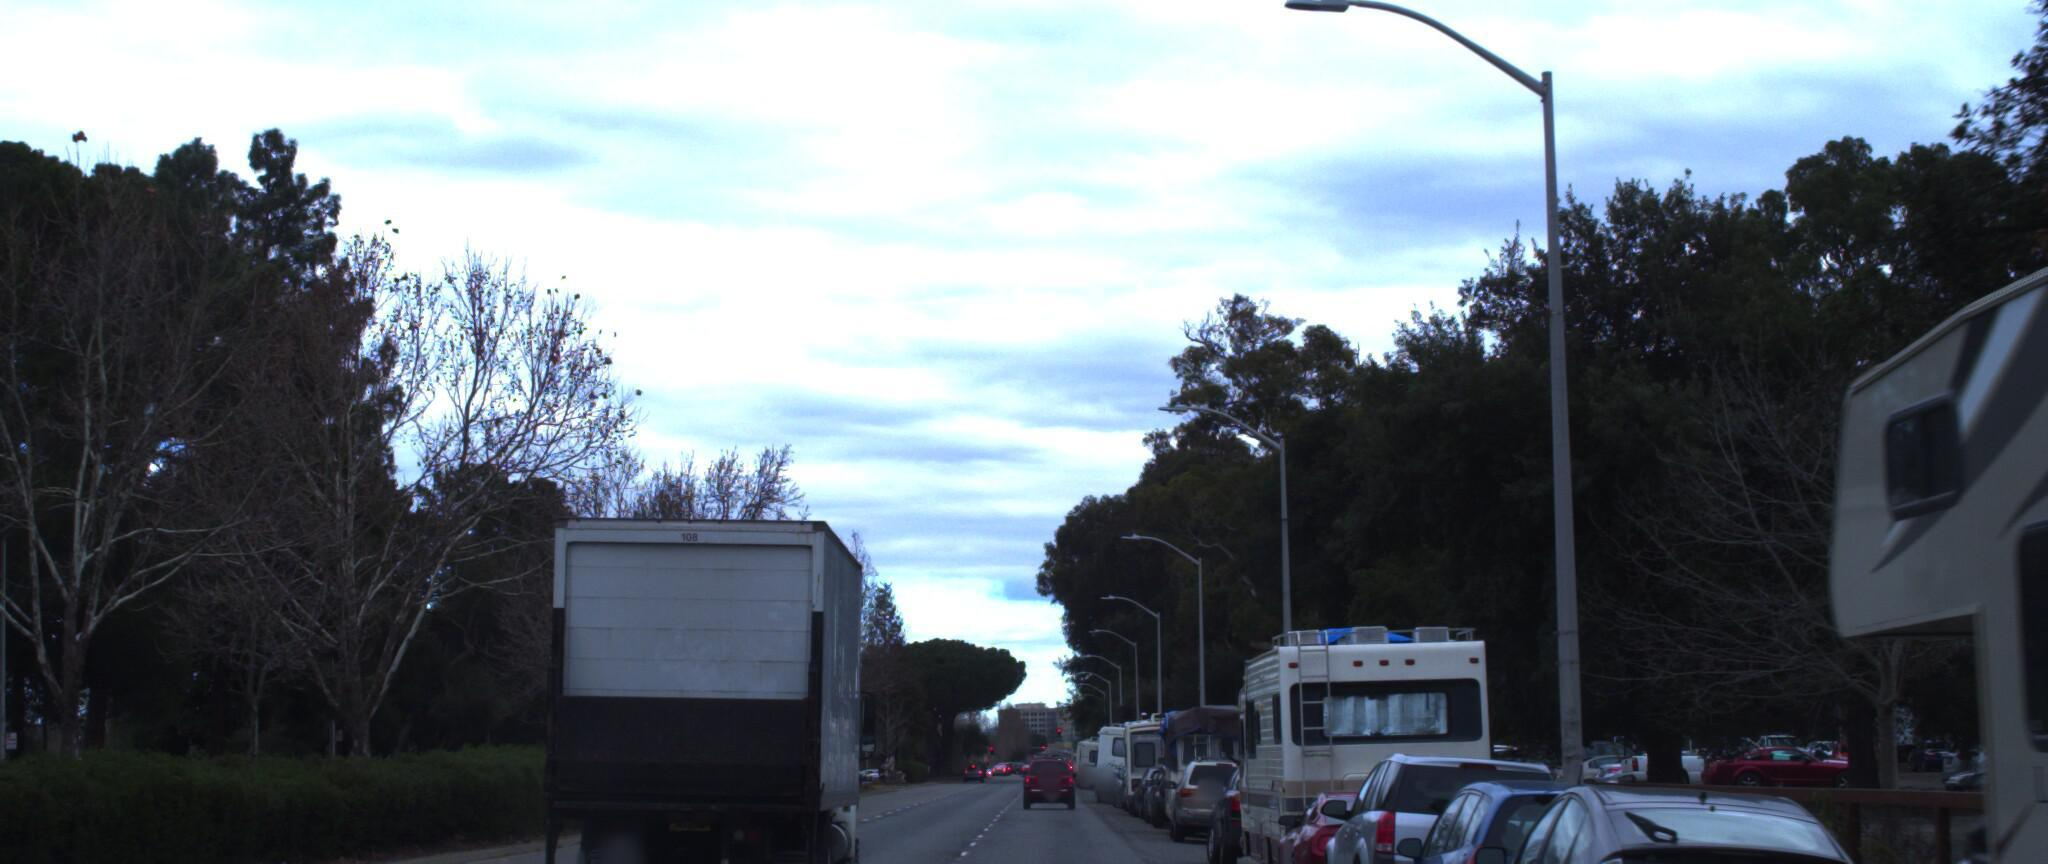car: (1458, 766, 1919, 864), (1306, 737, 1597, 864), (1378, 764, 1720, 864), (1266, 773, 1492, 864), (1162, 745, 1270, 839)
other_vehicle: (1755, 0, 2048, 864), (1223, 596, 1512, 864), (1152, 693, 1289, 834)
truck: (519, 462, 899, 864)
